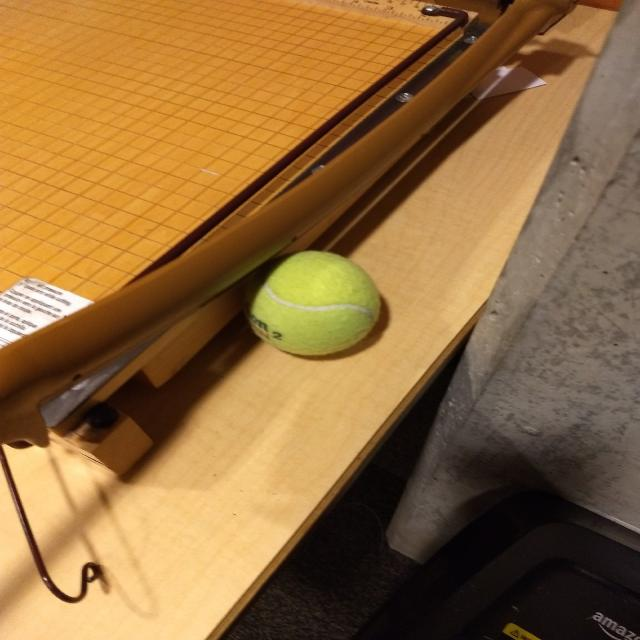Tennis-Ball: (240, 246, 389, 363)
